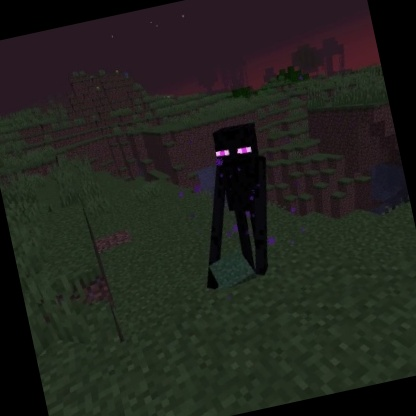enderman: (172, 118, 292, 295)
